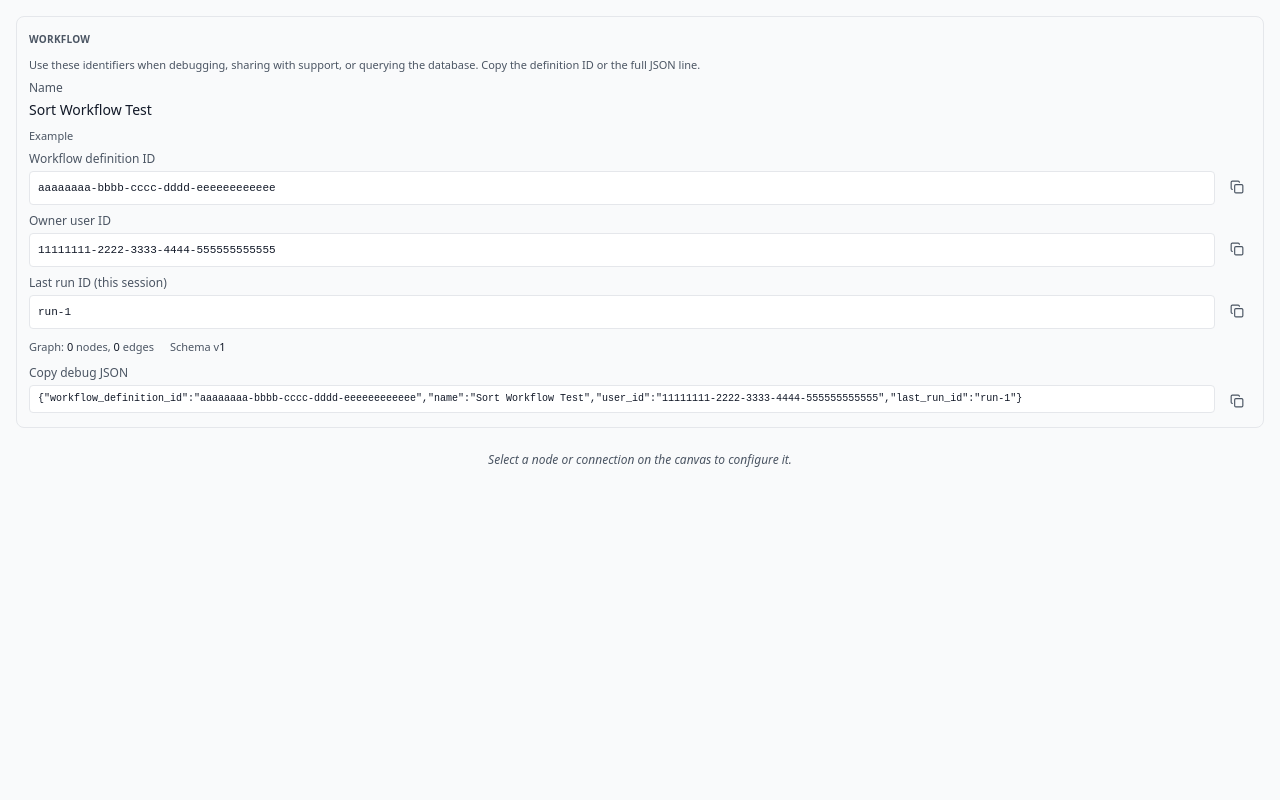
Test case: WorkflowExplorerWorkflowMetadata › copy debug JSON includes workflow id and name
Click the button named "Copy debug JSON": x=1237, y=401 [1223,387,1251,415]
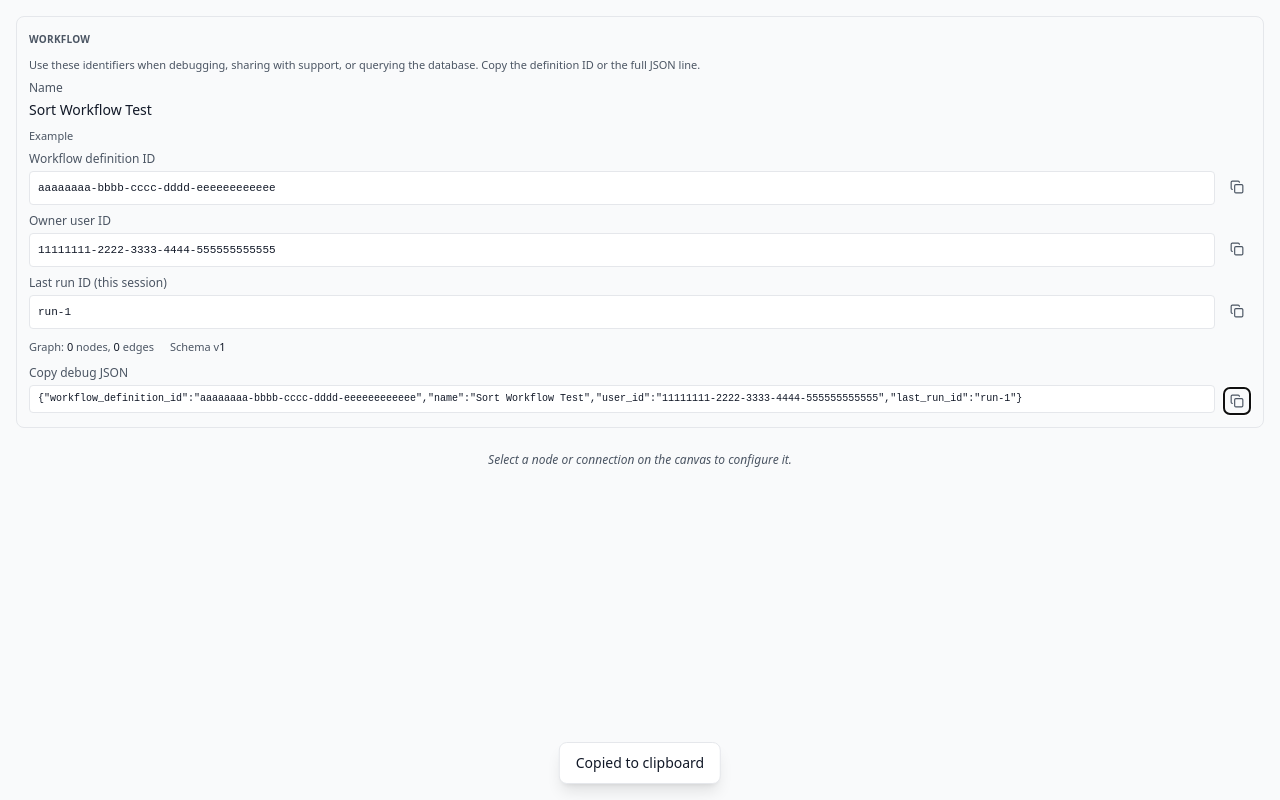
expect the message reads "Copied to clipboard": met, box [576,753,704,772]
